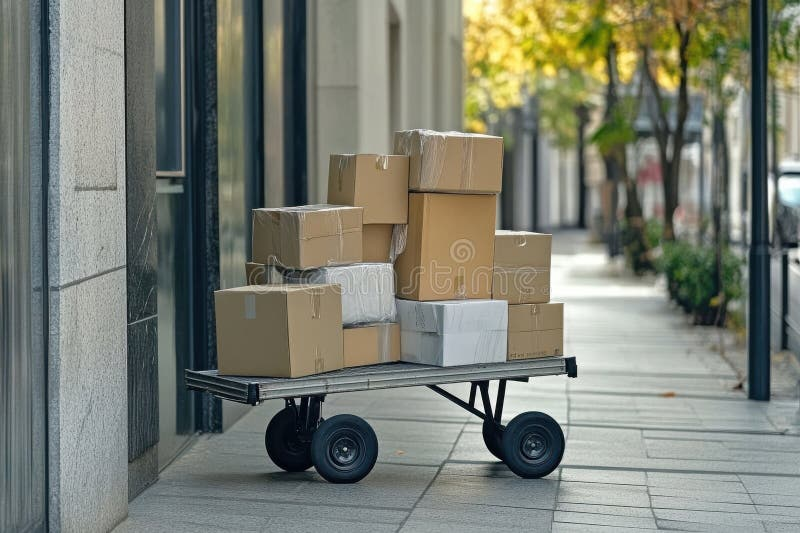DeliveryBox: (191, 125, 579, 376), (206, 275, 351, 377), (390, 196, 515, 299), (388, 115, 522, 207), (228, 198, 378, 274)
